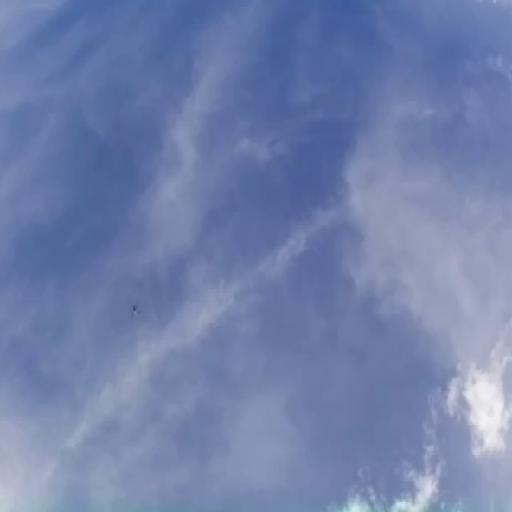drones: (126, 298, 146, 322)
